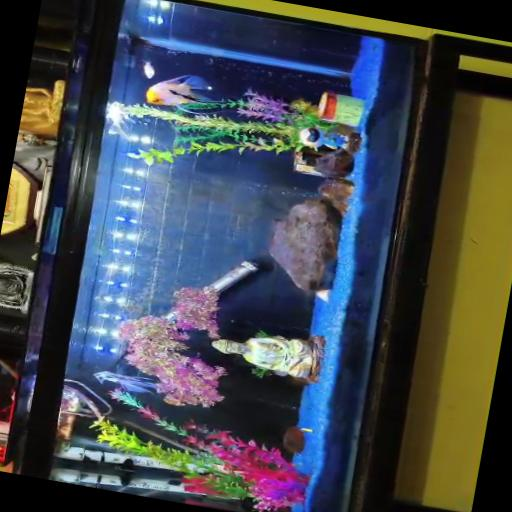Fish: (146, 75, 221, 114), (94, 371, 158, 394), (107, 102, 133, 141), (143, 61, 156, 78)
